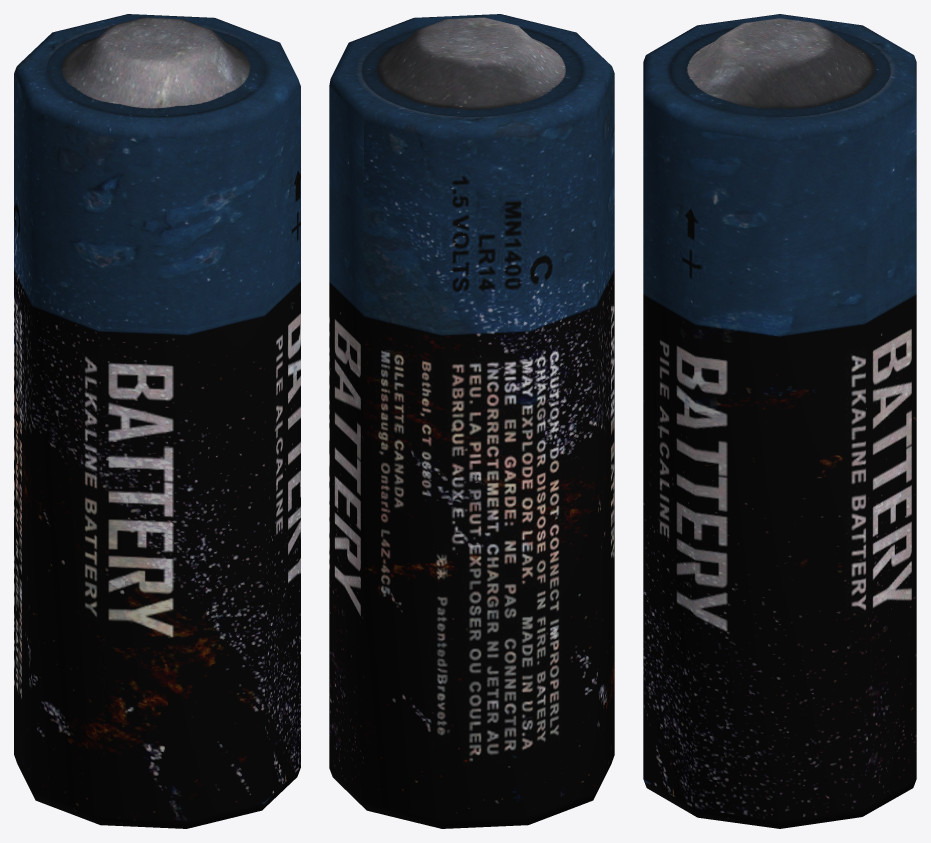
File: Battery.FBX
The picture shows the model from 3 angles, left to right: view 1: azimuth 30°, elevation 25°; view 2: azimuth 150°, elevation 25°; view 3: azimuth 270°, elevation 25°; orthographic projection.
Visible parts, largest first — view 1: _Battery; view 2: _Battery; view 3: _Battery.
Part boxes in pixels (x1,y1,x2,y2): _Battery: (14, 14, 300, 828); _Battery: (329, 14, 614, 828); _Battery: (643, 14, 916, 828).
Bounding box in the file's own units: 13 × 36.5 × 12.36.
1 material, 1 textured.
